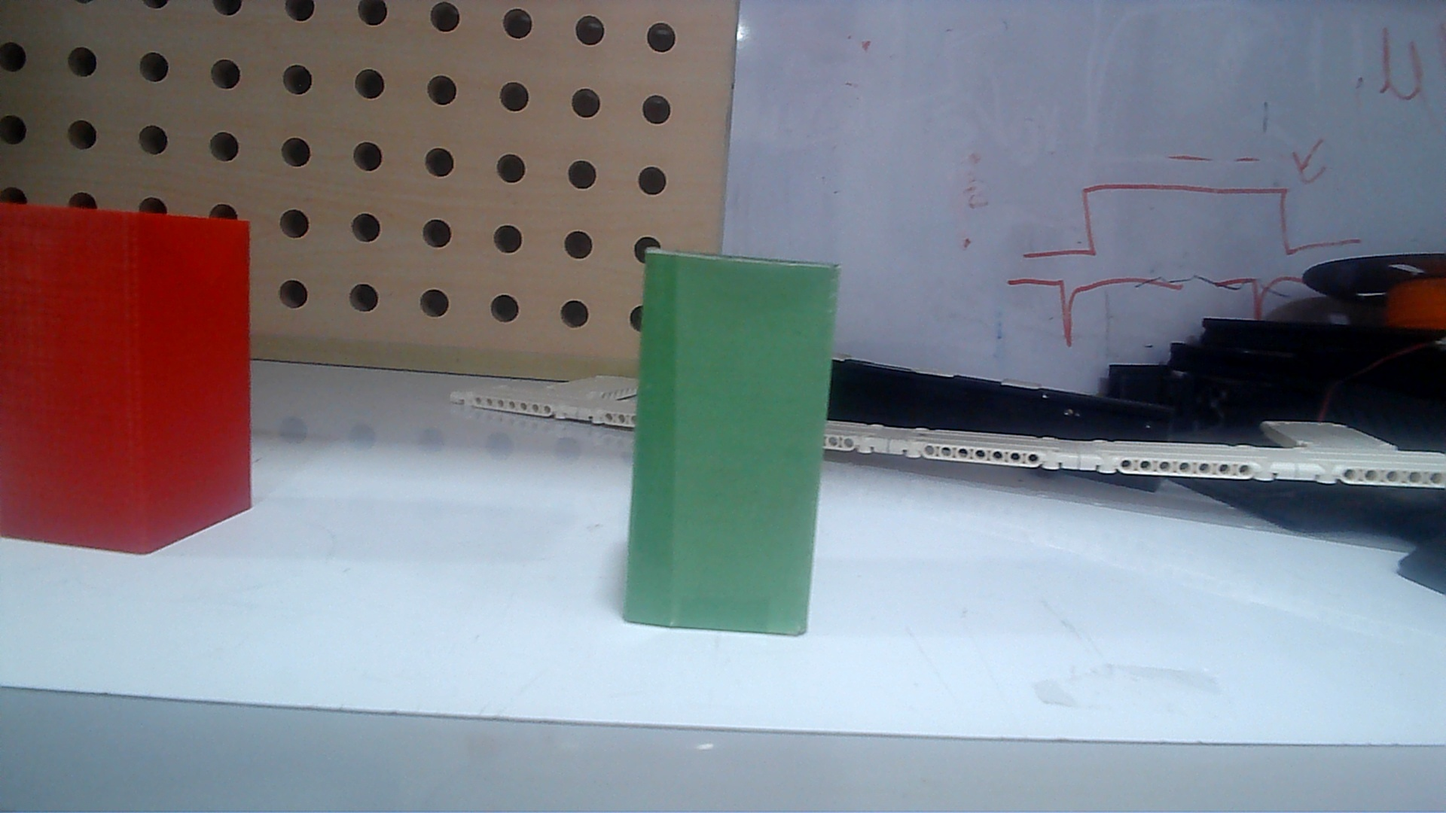green: (606, 237, 859, 650)
